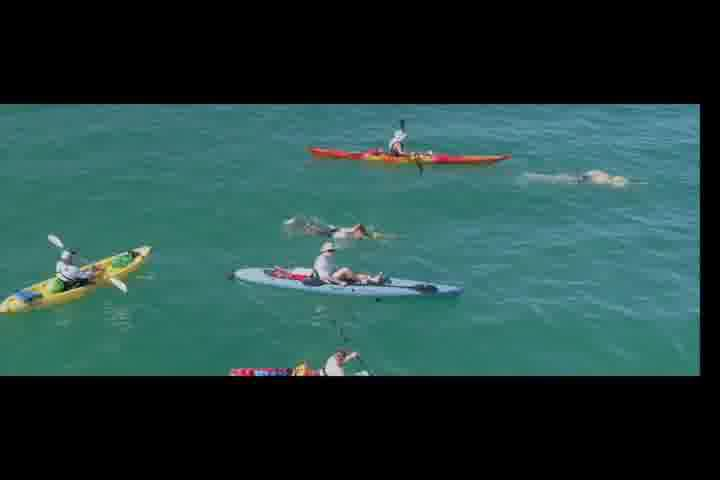human: (282, 214, 400, 246)
